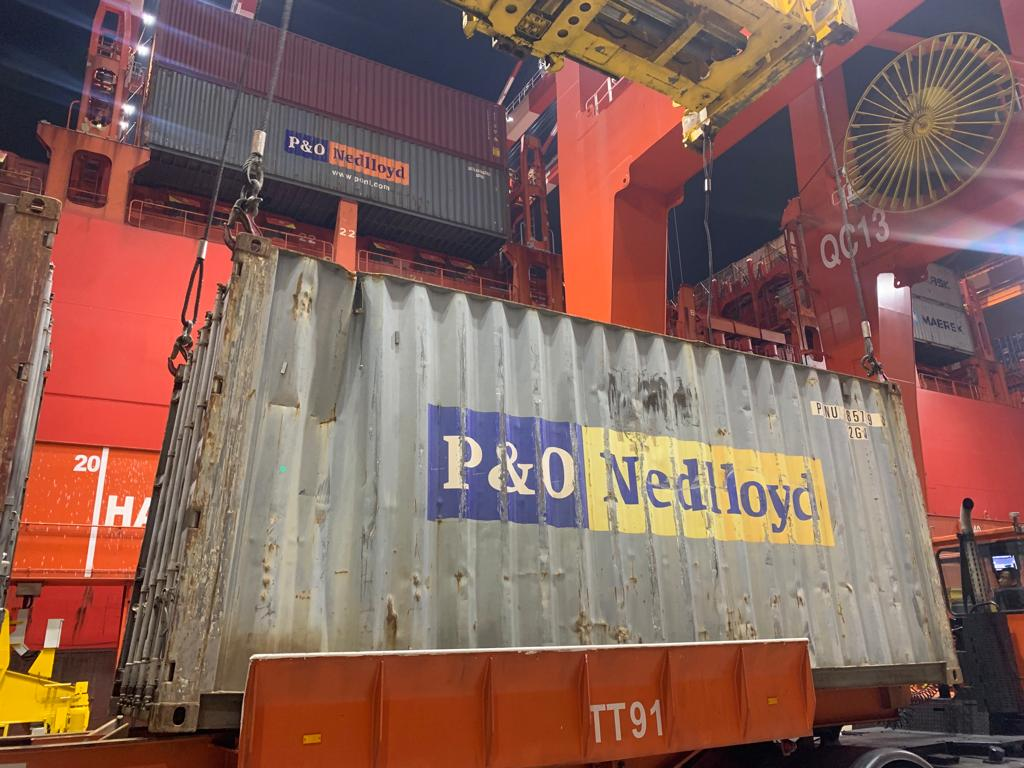dented: (248, 251, 404, 423), (589, 347, 730, 434), (712, 570, 871, 634), (357, 570, 457, 638), (574, 614, 649, 653)
